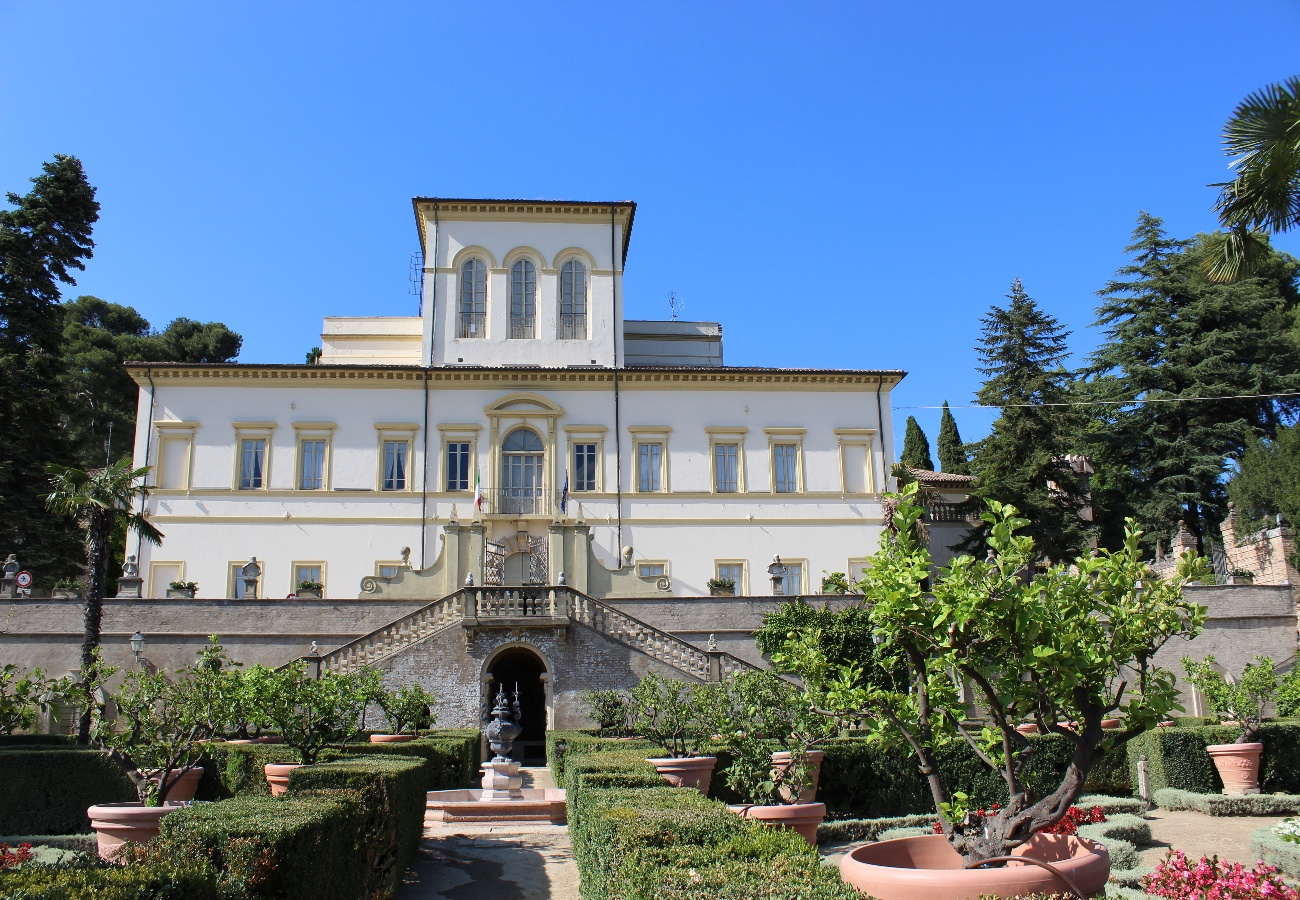Villa Caprile: (112, 194, 908, 615)
